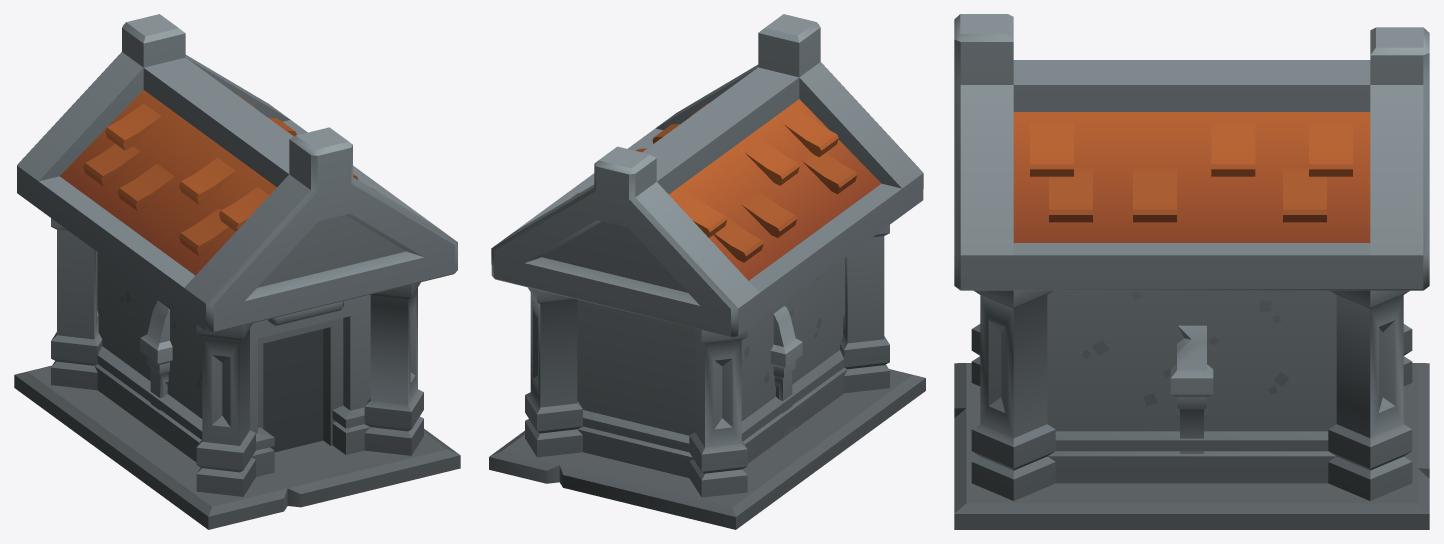
Rendered from buildings.glb.
The picture shows the model from 3 angles, left to right: view 1: azimuth 30°, elevation 25°; view 2: azimuth 150°, elevation 25°; view 3: azimuth 270°, elevation 25°; orthographic projection. The views are drawn at different scales.
Parts seen in each view (by area): view 1: crypt, arch_gate; view 2: crypt, arch_gate; view 3: crypt, arch_gate.
Boxes of the visible parts, bbox=[...] form: crypt: bbox=[14, 14, 460, 529]; arch_gate: bbox=[140, 300, 172, 435]; crypt: bbox=[489, 14, 925, 529]; arch_gate: bbox=[771, 306, 802, 436]; crypt: bbox=[954, 14, 1429, 529]; arch_gate: bbox=[1170, 325, 1213, 453].
Size of the model in its own units: 6 by 8.35 by 8.
